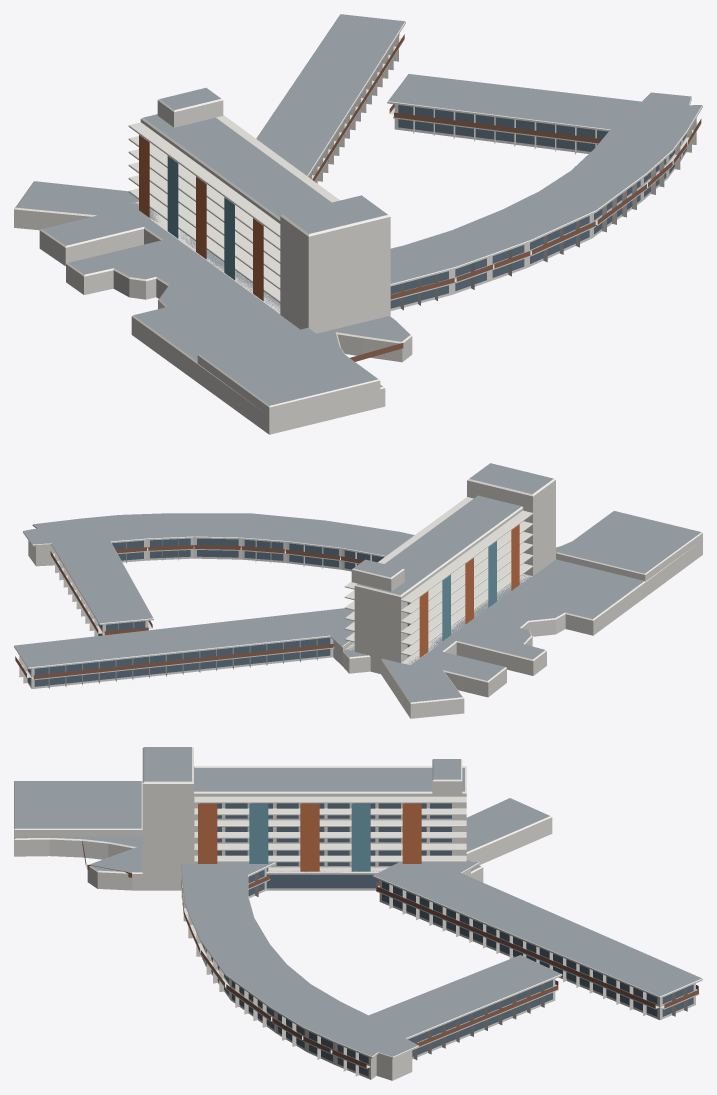
The model's file is phx-hotel-valley-ho.glb.
The picture shows the model from 3 angles, top to bottom: view 1: azimuth 30°, elevation 25°; view 2: azimuth 150°, elevation 25°; view 3: azimuth 270°, elevation 25°; orthographic projection. The views are drawn at different scales.
Visible parts, largest first — view 1: Hotel Valley Ho; view 2: Hotel Valley Ho; view 3: Hotel Valley Ho.
Boxes of the visible parts, <box> form: Hotel Valley Ho: <box>14,14,702,434</box>; Hotel Valley Ho: <box>14,463,702,718</box>; Hotel Valley Ho: <box>14,747,702,1080</box>.
Size of the model in its own units: 155 by 28 by 162.
